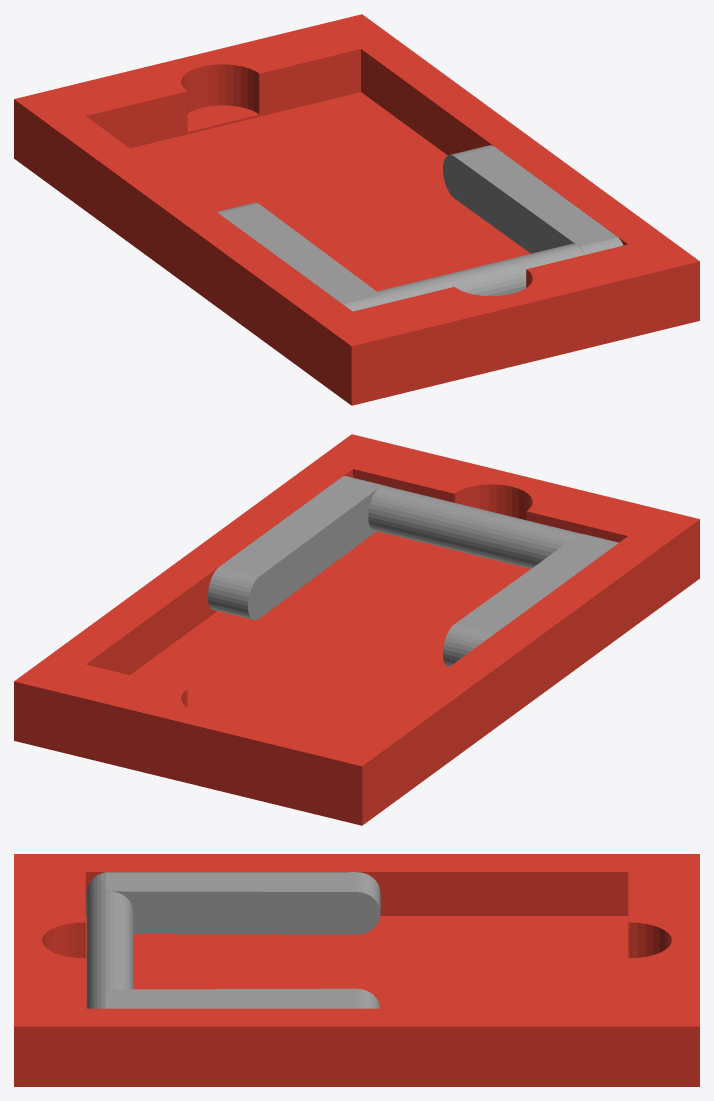
3 renders of one model, top to bottom at view 1: azimuth 30°, elevation 25°; view 2: azimuth 150°, elevation 25°; view 3: azimuth 270°, elevation 25°, orthographic.
Parts seen in each view (by area): view 1: Cube.003, Cylinder; view 2: Cube.003, Cylinder; view 3: Cube.003, Cylinder.
Part boxes in pixels (x1=…): Cube.003: x1=14, y1=14, x2=699, y2=405; Cylinder: x1=217, y1=145, x2=623, y2=311; Cube.003: x1=14, y1=434, x2=699, y2=825; Cylinder: x1=207, y1=476, x2=618, y2=667; Cube.003: x1=14, y1=854, x2=699, y2=1086; Cylinder: x1=86, y1=872, x2=380, y2=1008.
Size of the model in its own units: 33.77 by 5.51 by 56.73.
